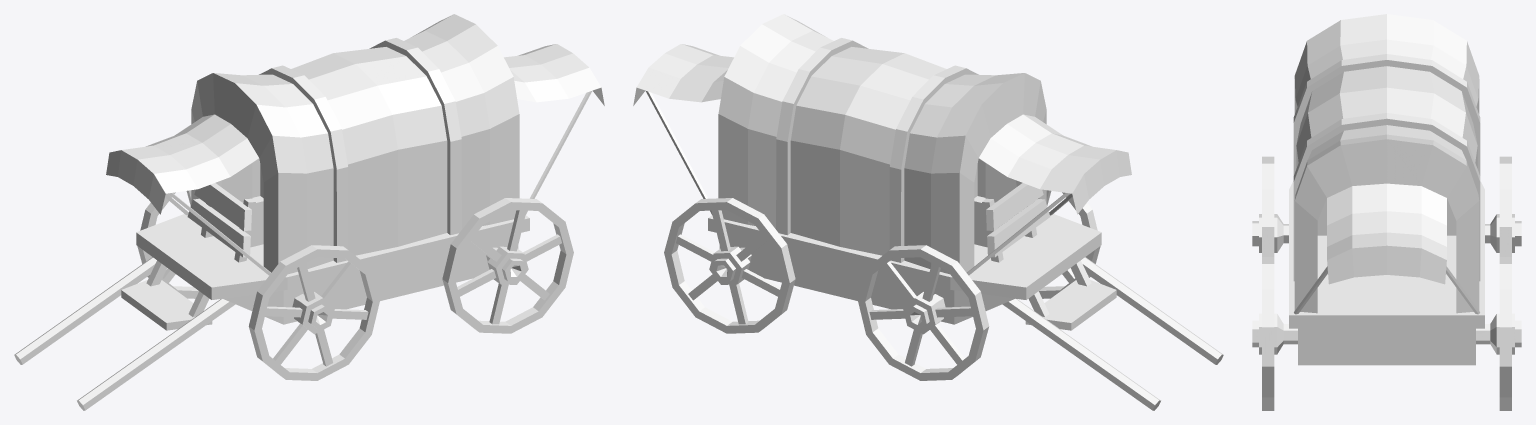
Rendered from Cart.fbx.
3 views of the same model, side by side, from view 1: azimuth 30°, elevation 25°; view 2: azimuth 150°, elevation 25°; view 3: azimuth 270°, elevation 25° (orthographic). The views are drawn at different scales.
Parts seen in each view (by area): view 1: Cart; view 2: Cart; view 3: Cart.
Part boxes in pixels (x1,y1,x2,y2): Cart: [14, 14, 604, 410]; Cart: [633, 14, 1223, 410]; Cart: [1252, 14, 1521, 410].
Size of the model in its own units: 2191 by 1030 by 906.
